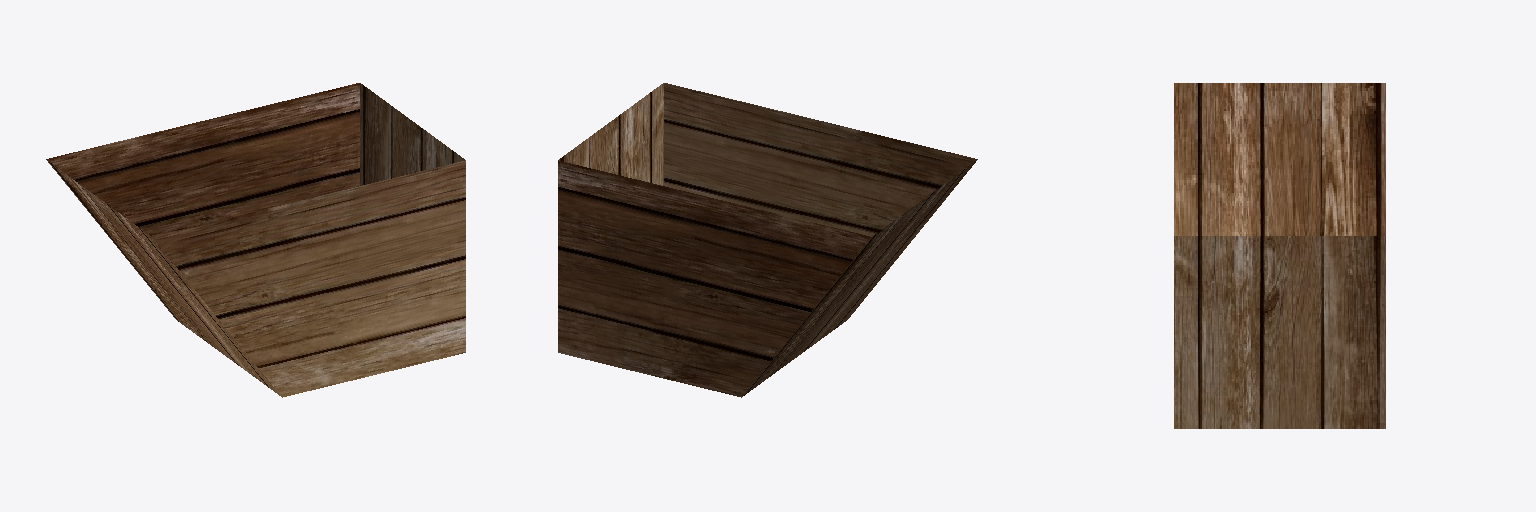
3 renders of one model, left to right at view 1: azimuth 30°, elevation 25°; view 2: azimuth 150°, elevation 25°; view 3: azimuth 270°, elevation 25°, orthographic.
Visible parts, largest first — view 1: Cube; view 2: Cube; view 3: Cube.
Part boxes in pixels (left/top/right/bottom): Cube: left=46, top=83, right=465, bottom=397; Cube: left=558, top=83, right=977, bottom=397; Cube: left=1174, top=83, right=1385, bottom=428.
Bounding box in the file's own units: 3.42 × 2 × 2.
1 materials, 1 textured.